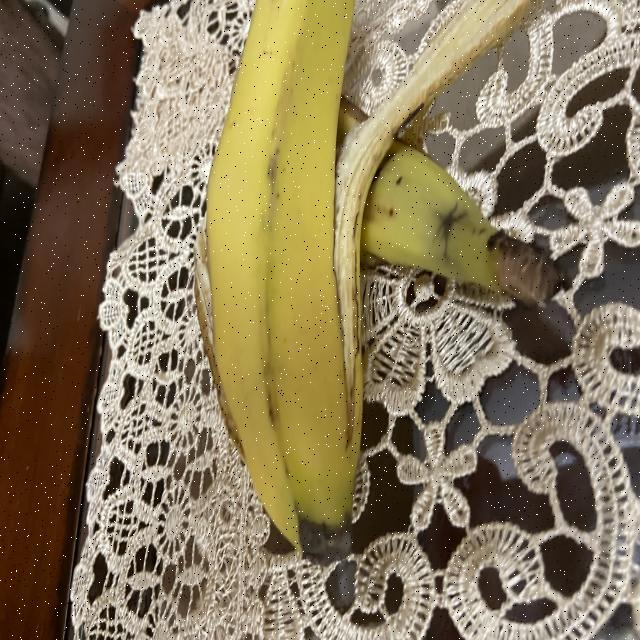banana-peel: (192, 0, 560, 558), (195, 0, 365, 557)
